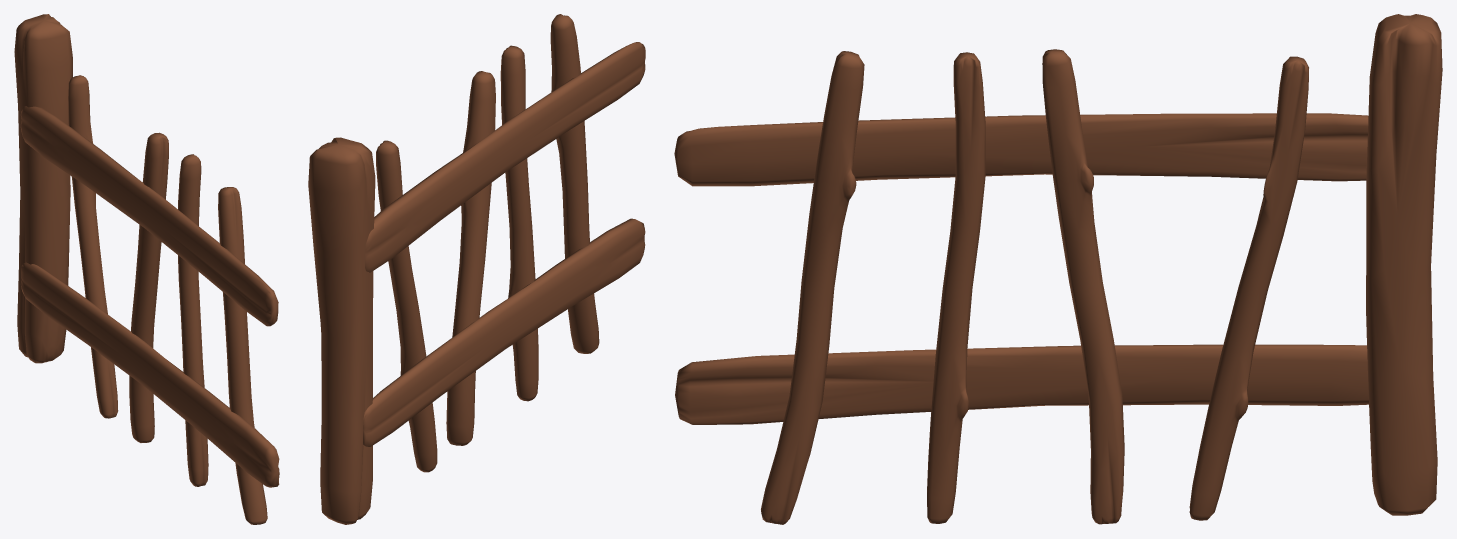
Rendered from zaun1.fbx.
3 renders of one model, left to right at view 1: azimuth 30°, elevation 25°; view 2: azimuth 150°, elevation 25°; view 3: azimuth 270°, elevation 25°, orthographic. The views are drawn at different scales.
Parts seen in each view (by area): view 1: Cube.166; view 2: Cube.166; view 3: Cube.166.
Boxes of the visible parts, x1,y1,x2,y2 form: Cube.166: (14,14,279,524); Cube.166: (308,14,645,524); Cube.166: (674,14,1442,524).
Bounding box in the file's own units: 214 × 1550 × 2140.
